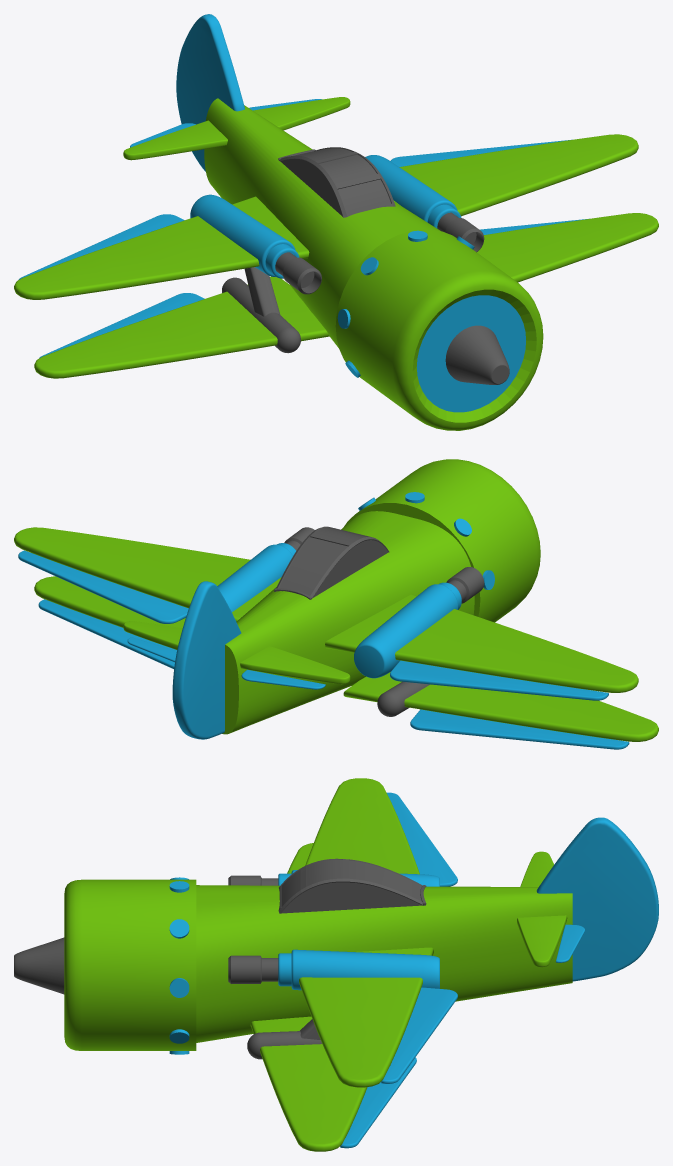
3 views of the same model, one above another, from view 1: azimuth 30°, elevation 25°; view 2: azimuth 150°, elevation 25°; view 3: azimuth 270°, elevation 25° (orthographic).
Parts seen in each view (by area): view 1: Крылья, Нос007, Корпус, КрышкаНоса002, Пулеметы, Хвост005, Кабина002, Закрылки, Крылья хвостовые, Пимпа002, Дуло, Колено001 (+2 smaller); view 2: Крылья, Корпус, Нос007, Закрылки, Хвост005, Пулеметы, Кабина002, Крылья хвостовые, Закрылки хвостовые, Дуло, Колено001, Cylinder8283; view 3: Корпус, Крылья, Нос007, Хвост005, Закрылки, Кабина002, Пулеметы, Крылья хвостовые, Пимпа002, Дуло, Cylinder8283, Колено001 (+1 smaller).
Part boxes in pixels (box(x1,y1,x2,y2)): Крылья: box(14, 134, 658, 378); Нос007: box(335, 229, 543, 430); Корпус: box(204, 98, 440, 347); КрышкаНоса002: box(416, 295, 525, 412); Пулеметы: box(190, 155, 461, 278); Хвост005: box(176, 14, 244, 171); Кабина002: box(278, 147, 395, 217); Закрылки: box(18, 139, 589, 358); Крылья хвостовые: box(123, 97, 350, 160); Пимпа002: box(445, 325, 509, 384); Дуло: box(275, 212, 484, 294); Колено001: box(222, 277, 300, 353); Крылья: box(14, 527, 658, 741); Корпус: box(222, 511, 474, 734); Нос007: box(344, 459, 540, 622); Закрылки: box(18, 550, 629, 749); Хвост005: box(172, 581, 241, 739); Пулеметы: box(217, 543, 461, 678); Кабина002: box(274, 526, 389, 599); Крылья хвостовые: box(123, 621, 350, 684); Закрылки хвостовые: box(127, 637, 325, 689); Дуло: box(284, 527, 484, 603); Колено001: box(377, 681, 429, 716); Cylinder8283: box(358, 492, 494, 589); Корпус: box(196, 885, 572, 1042); Крылья: box(250, 778, 433, 1151); Нос007: box(64, 879, 196, 1050); Хвост005: box(536, 817, 658, 981); Закрылки: box(340, 792, 457, 1148); Кабина002: box(278, 858, 426, 913); Пулеметы: box(278, 870, 439, 990); Крылья хвостовые: box(517, 851, 567, 967); Пимпа002: box(14, 937, 64, 994); Дуло: box(228, 875, 278, 983); Cylinder8283: box(169, 877, 189, 1054); Колено001: box(247, 1031, 322, 1059).
Size of the model in its own units: 1.73 by 0.5979 by 1.55.
